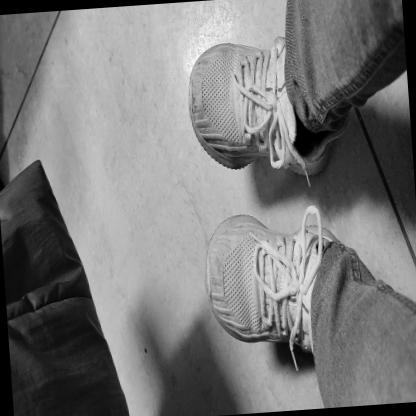ankle: (305, 143, 309, 152), (320, 246, 325, 252)
heel: (326, 146, 331, 156), (334, 232, 338, 237)
left_foot: (205, 208, 352, 359)
pinky: (227, 321, 232, 329), (212, 53, 214, 57)
right_foot: (186, 35, 335, 182)
toe: (206, 134, 212, 144), (215, 240, 219, 245)
